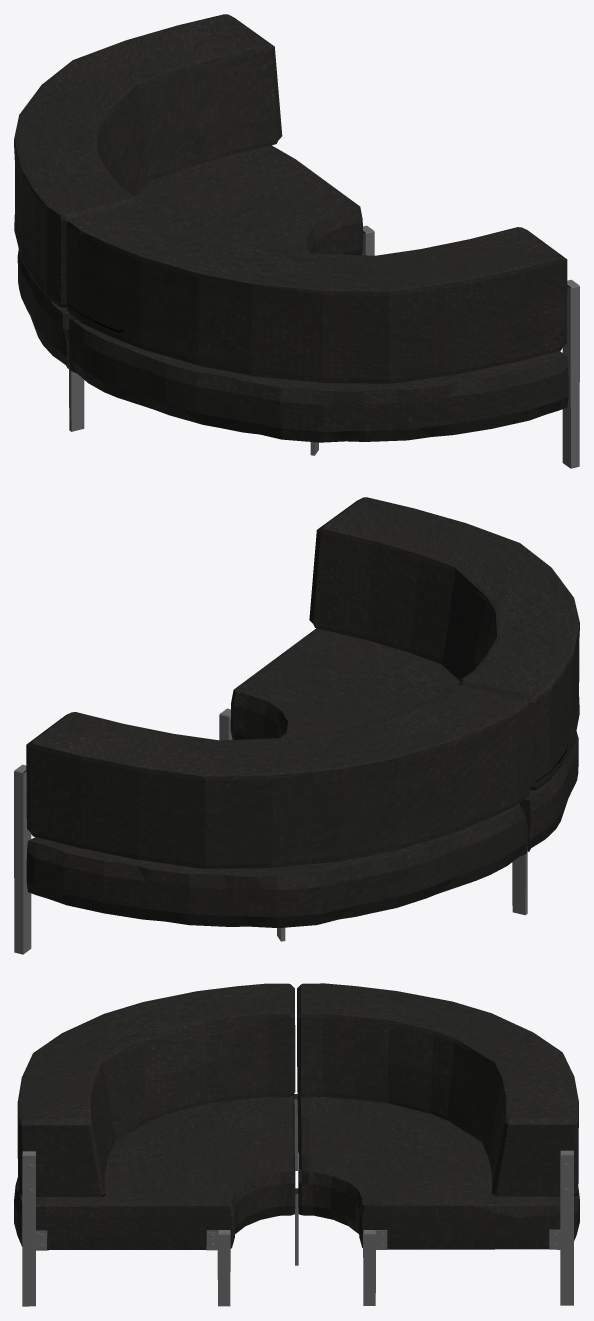
File: CurvedBench.fbx
3 views of the same model, one above another, from view 1: azimuth 30°, elevation 25°; view 2: azimuth 150°, elevation 25°; view 3: azimuth 270°, elevation 25° (orthographic). The views are drawn at different scales.
Parts seen in each view (by area): view 1: CurvedBench; view 2: CurvedBench; view 3: CurvedBench.
Part boxes in pixels (left/top/right/bottom): CurvedBench: left=14, top=14, right=579, bottom=468; CurvedBench: left=14, top=497, right=579, bottom=954; CurvedBench: left=14, top=983, right=579, bottom=1306.
Size of the model in its own units: 24.15 by 14 by 39.94.
